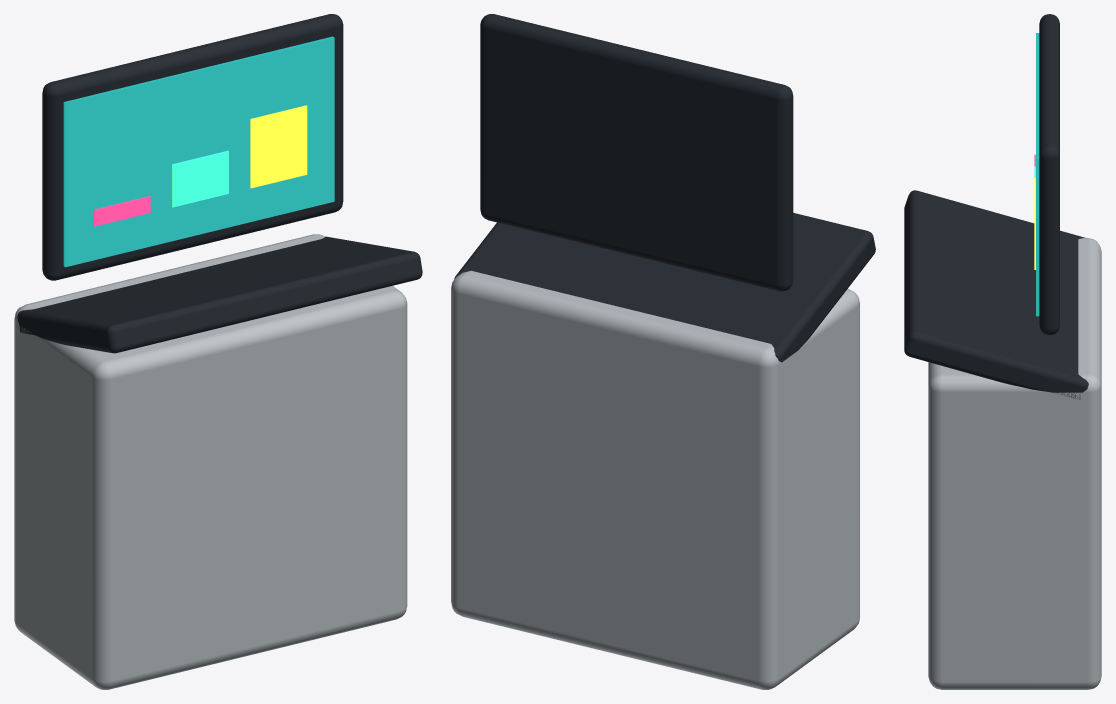
File: farm-console.glb
3 views of the same model, side by side, from view 1: azimuth 30°, elevation 25°; view 2: azimuth 150°, elevation 25°; view 3: azimuth 270°, elevation 25° (orthographic). The views are drawn at different scales.
Visible parts, largest first — view 1: farm-console-panel-grey, display, farm-console-dark-polymer, screen-dark-polymer, screen-led-amber, screen-led-green, screen-grow-led-red; view 2: farm-console-panel-grey, screen-dark-polymer, farm-console-dark-polymer; view 3: farm-console-panel-grey, farm-console-dark-polymer, screen-dark-polymer, display.
Part boxes in pixels (<box>): farm-console-panel-grey: <box>14,234,407,689</box>; display: <box>63,36,334,267</box>; farm-console-dark-polymer: <box>17,236,422,353</box>; screen-dark-polymer: <box>42,14,343,280</box>; screen-led-amber: <box>250,105,307,188</box>; screen-led-green: <box>172,150,228,207</box>; screen-grow-led-red: <box>93,196,150,226</box>; farm-console-panel-grey: <box>451,270,859,689</box>; screen-dark-polymer: <box>480,14,793,291</box>; farm-console-dark-polymer: <box>454,213,875,362</box>; farm-console-panel-grey: <box>928,238,1101,689</box>; farm-console-dark-polymer: <box>904,190,1088,399</box>; screen-dark-polymer: <box>1039,14,1059,335</box>; display: <box>1036,33,1039,316</box>.
Bounding box in the file's own units: 1 × 1.72 × 0.5693.
